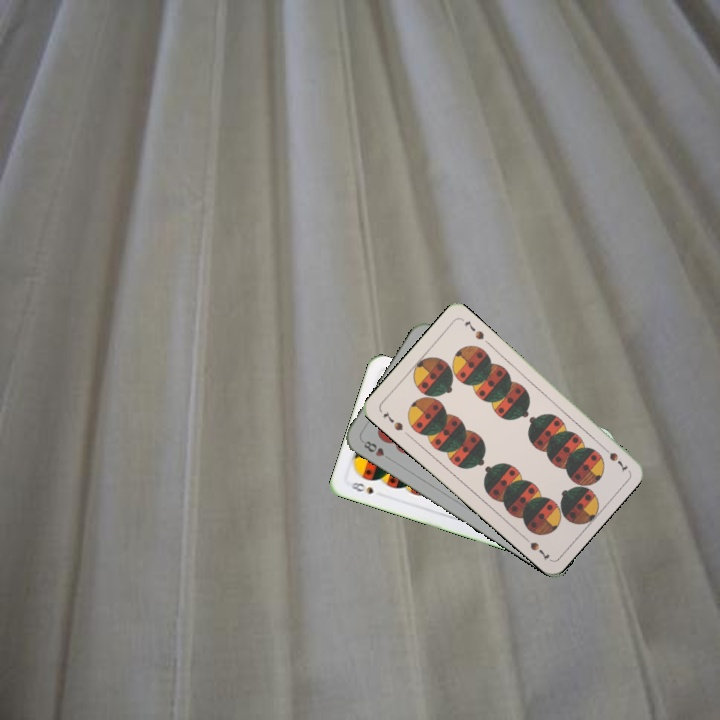H8: (359, 437, 394, 463)
S7: (597, 441, 630, 475), (379, 408, 406, 433)
S8: (344, 478, 376, 497)
